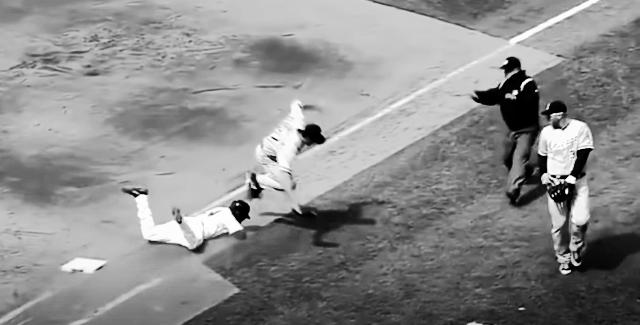jatuh: (244, 94, 330, 228), (120, 181, 254, 257)
